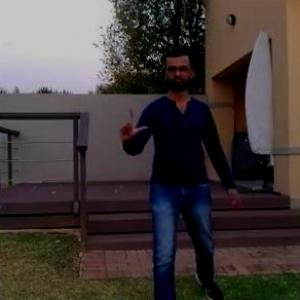land_hand: (113, 98, 150, 148)
